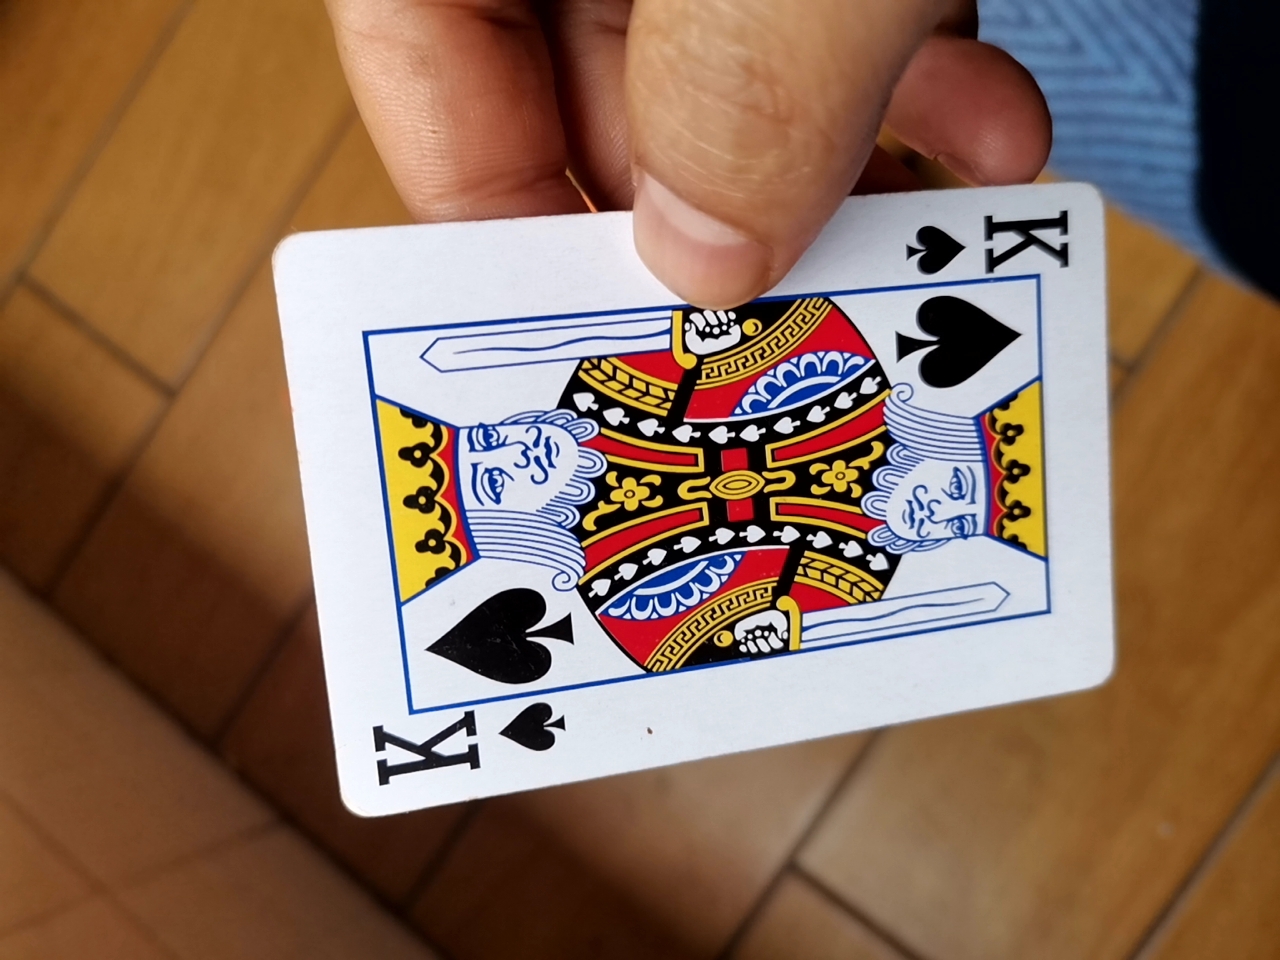ht k: (250, 172, 1121, 840)
